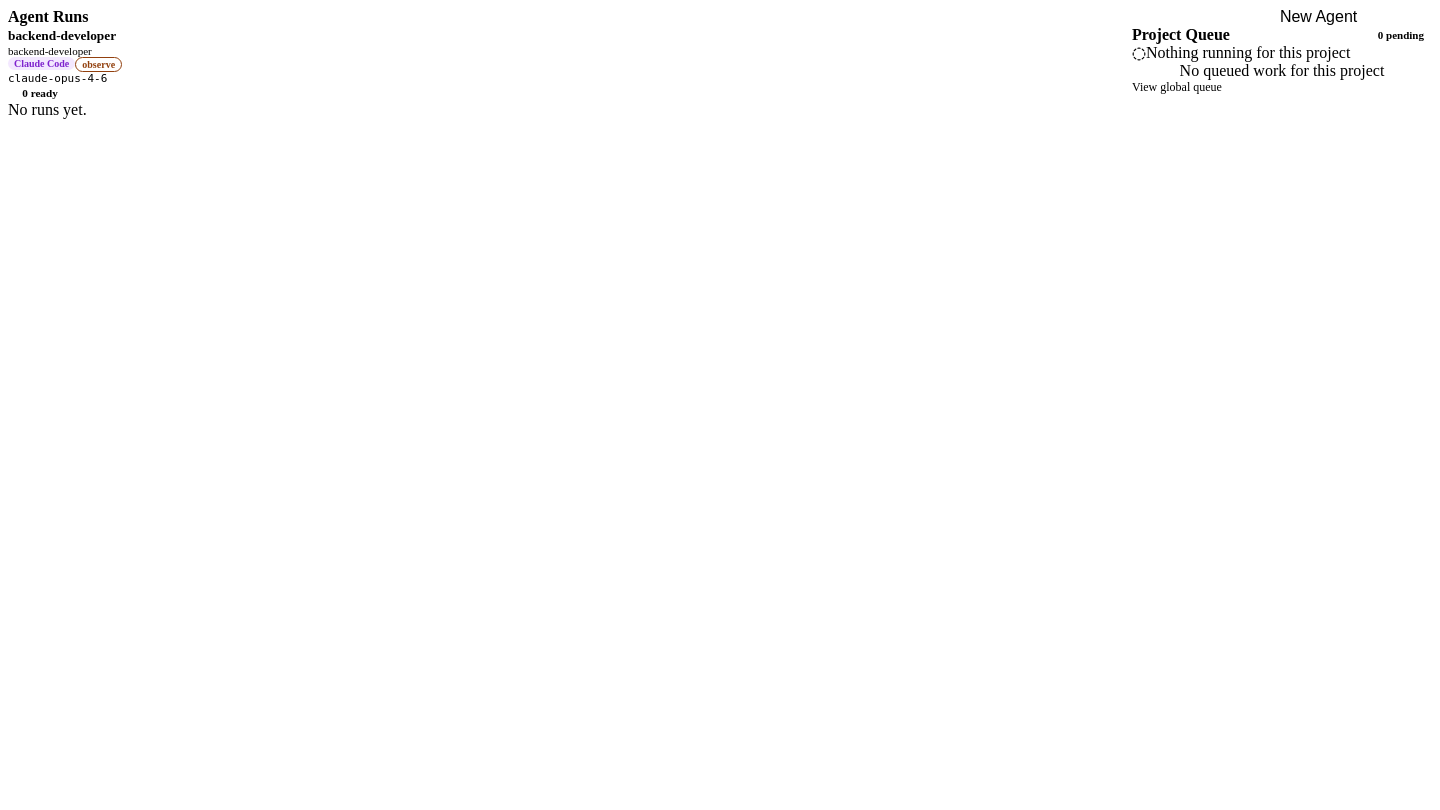
AgentsRunsView — create emits only populated keys (FR-7) › creating a new agent with only required fields adds no spurious empty values
Click the button "New Agent".
click(1319, 17)  # box [1280,8,1357,26]
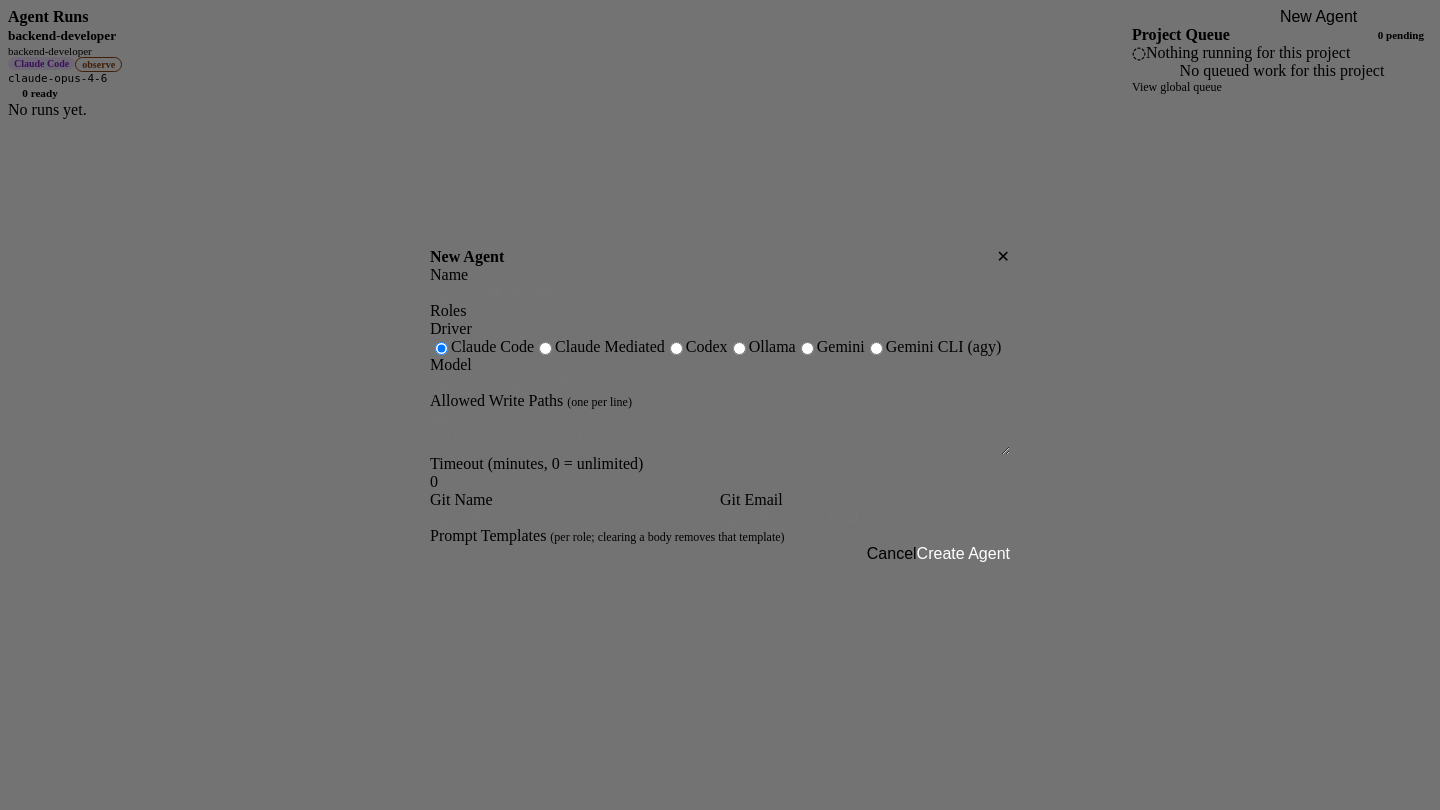
Result: the form is shown at [430,266,1010,562]
